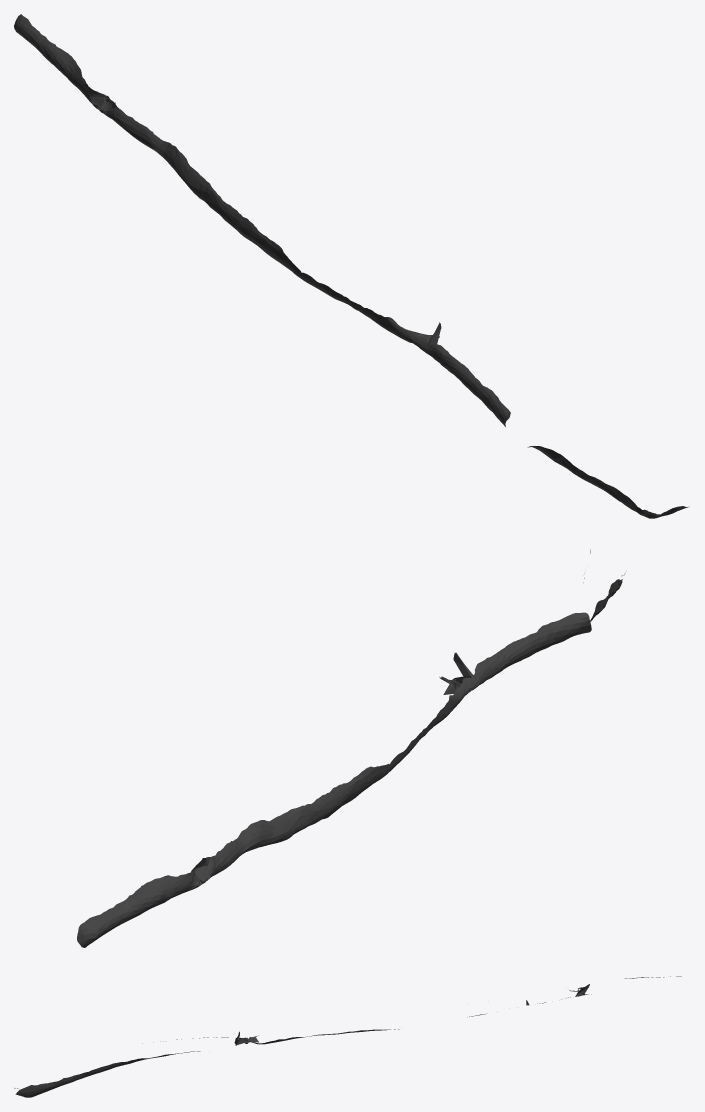
File: vein_cephalic.glb
3 views of the same model, one above another, from view 1: azimuth 30°, elevation 25°; view 2: azimuth 150°, elevation 25°; view 3: azimuth 270°, elevation 25° (orthographic). The views are drawn at different scales.
Visible parts, largest first — view 1: vein_cephalic; view 2: vein_cephalic; view 3: vein_cephalic.
Boxes of the visible parts, x1,y1,x2,y2 form: vein_cephalic: (14, 14, 689, 518); vein_cephalic: (77, 549, 625, 947); vein_cephalic: (14, 976, 681, 1097).
Bounding box in the file's own units: 0.0927 × 0.0892 × 0.622.
Materials: 1 (1 with a texture image).
